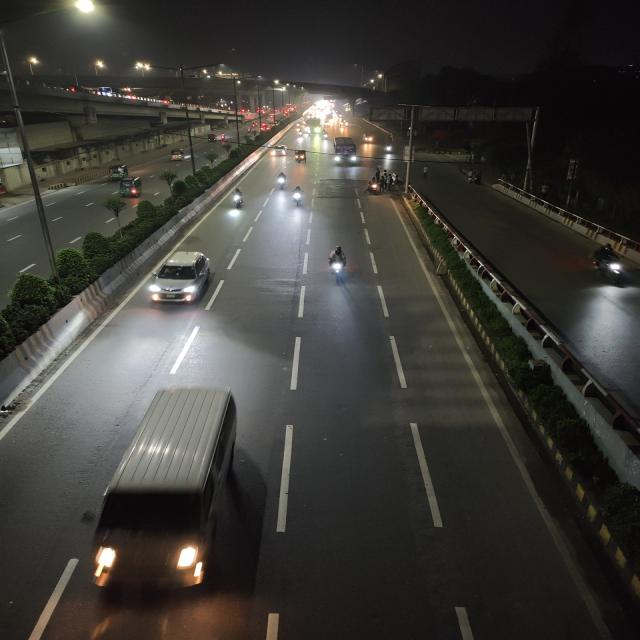bus: (333, 135, 357, 167)
car: (75, 378, 269, 615), (142, 242, 217, 314), (268, 142, 290, 160)
cng: (118, 176, 144, 198), (107, 161, 128, 181), (169, 146, 185, 163), (293, 148, 308, 162), (204, 132, 217, 144), (364, 132, 375, 146)
motorcycle: (590, 241, 629, 288), (320, 243, 354, 286), (230, 186, 247, 212), (290, 186, 304, 208), (274, 171, 288, 193), (368, 176, 381, 196), (219, 132, 228, 142)
pedestrian: (419, 163, 430, 180), (465, 170, 476, 185), (387, 173, 393, 189)
